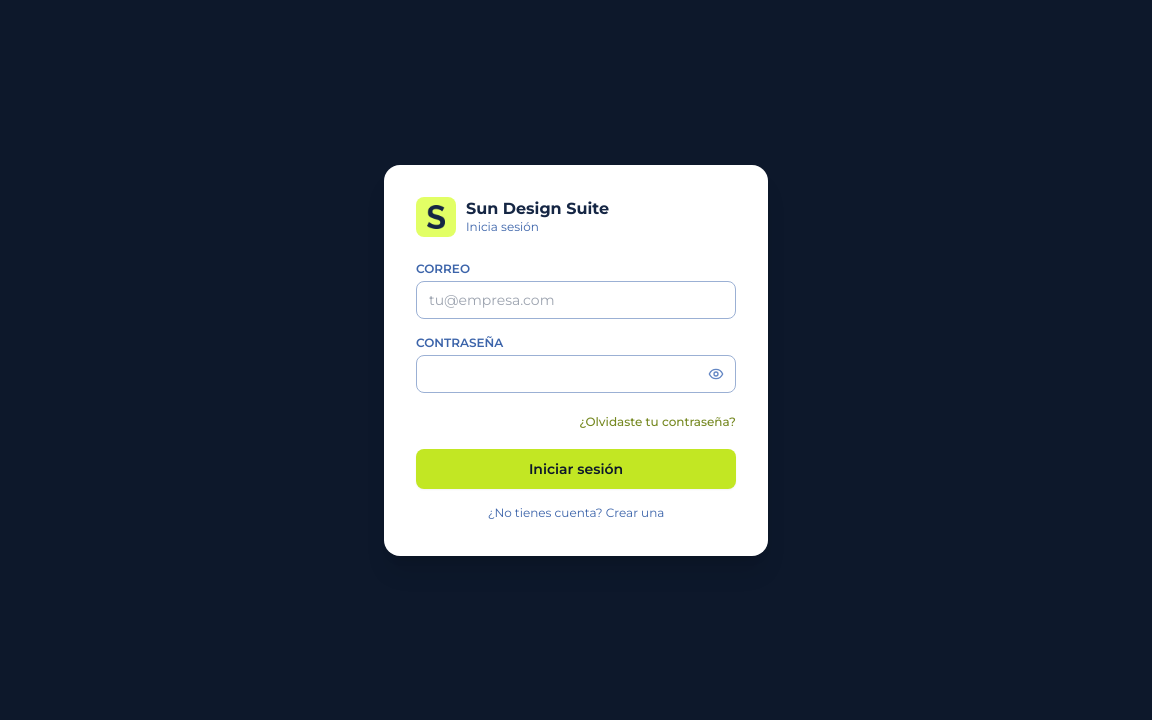
crear cuenta › si coinciden, se crea
Click the button "¿No tienes cuenta? Crear una".
click(576, 512)  # box [416,504,736,520]
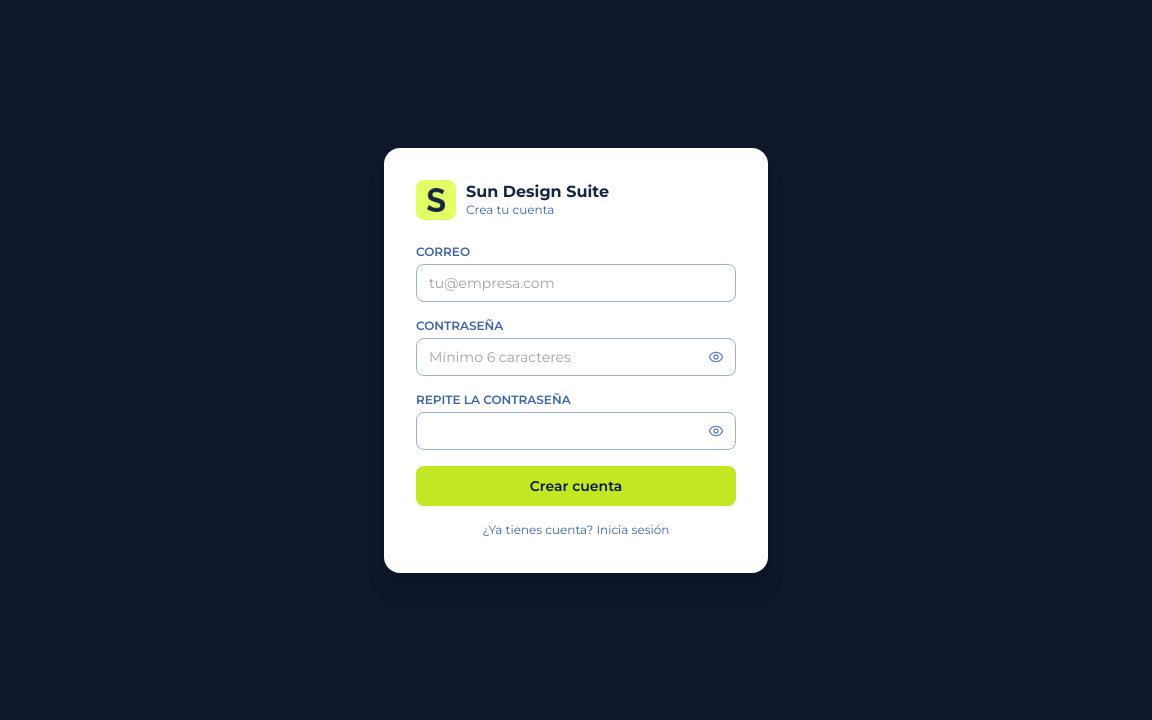
Type "nuevo@solenium.co" into the field labelled "Correo".
click(576, 282); type("nuevo@solenium.co")  # box [416,264,736,302]
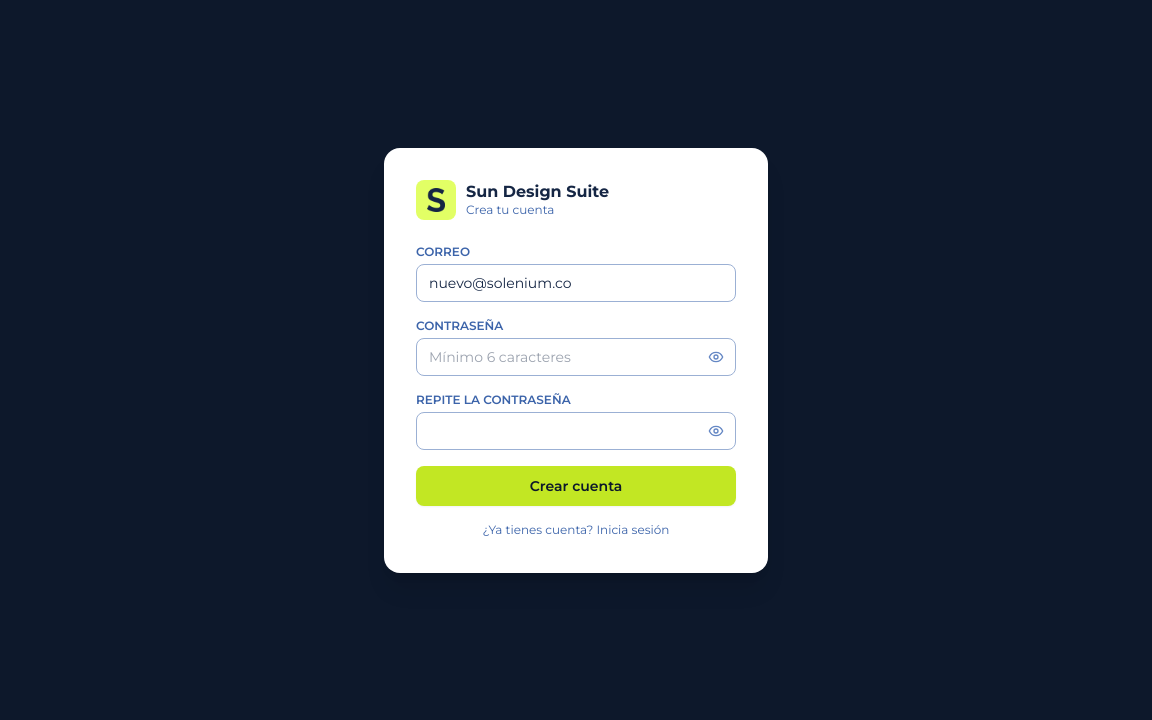
Type "Solenium2026" into the password field labelled "Contraseña".
click(576, 356); type("Solenium2026")  # box [416,338,736,376]
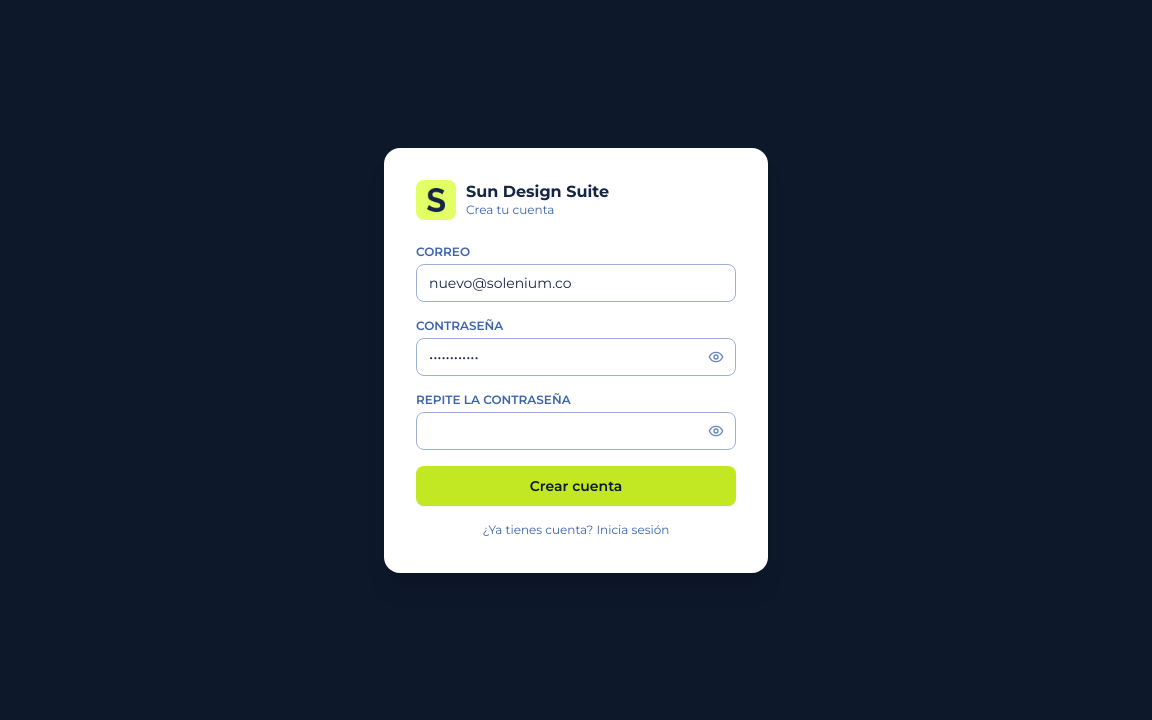
Type "Solenium2026" into the password field labelled "Repite la contraseña".
click(576, 430); type("Solenium2026")  # box [416,412,736,450]
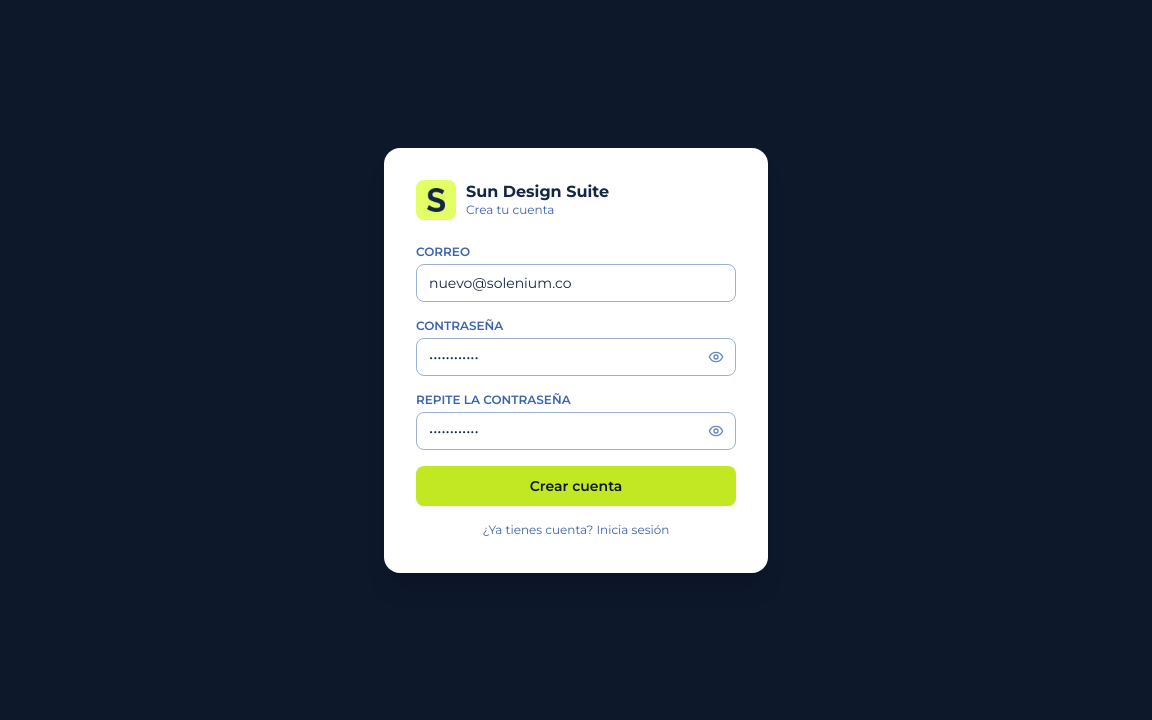
Click the button "Crear cuenta".
click(576, 486)  # box [416,466,736,506]
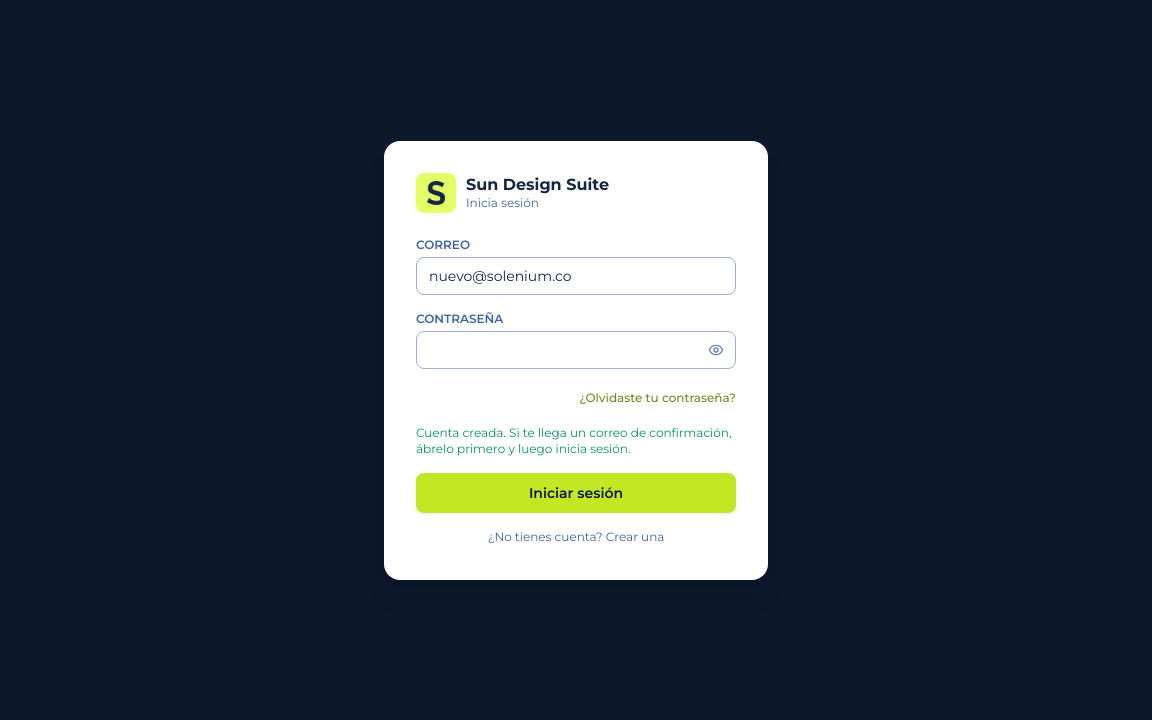
Expected: the message shows "Cuenta creada", [416,424,732,456]
